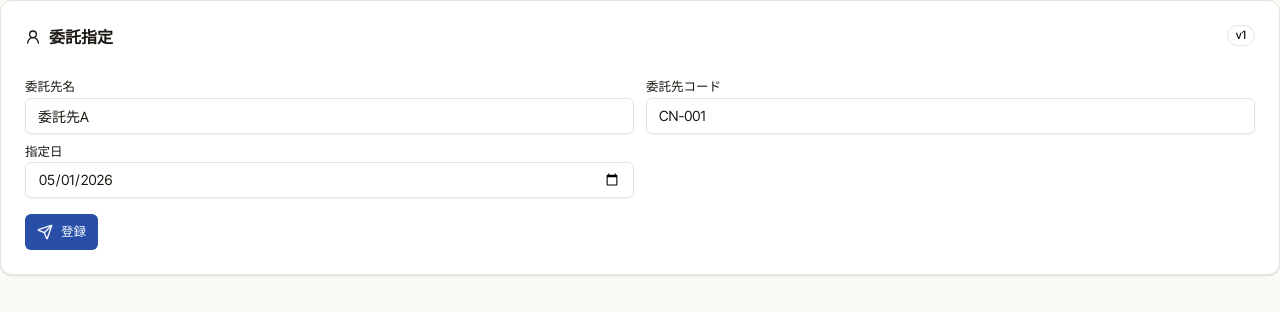
Test: ConsignmentDesignationForm (FE-COMP-RICH-CD-*) › FE-COMP-RICH-CD-001: 委託先名空 → field エラー、API 未呼出
The image size is (1280, 312).
Clear the field labelled "委託先名": (330, 116) top-left (25, 98), bottom-right (634, 134)
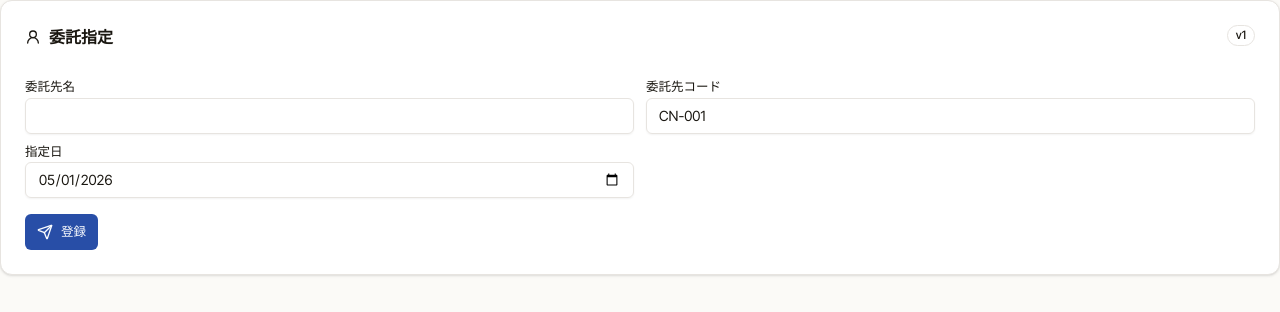
Submit the form "登録", box top-left (25, 81), bottom-right (1255, 250)
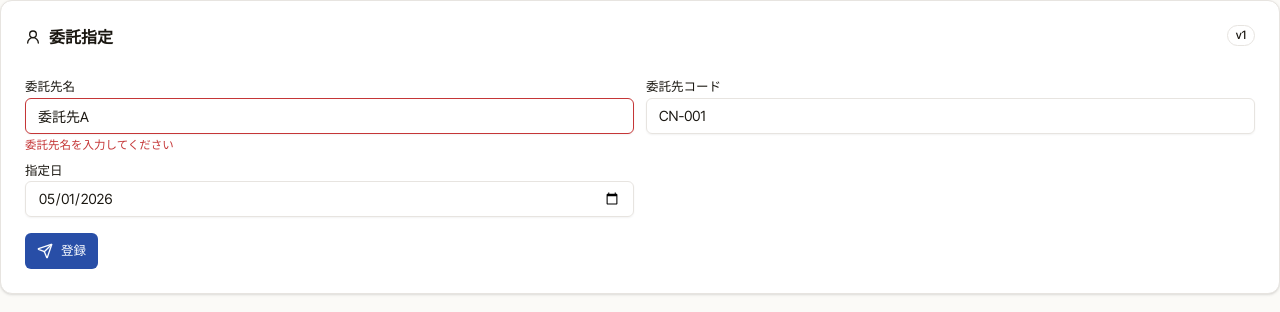
Expected: the text "委託先名を入力してください" is shown, top-left (25, 138), bottom-right (174, 152)
